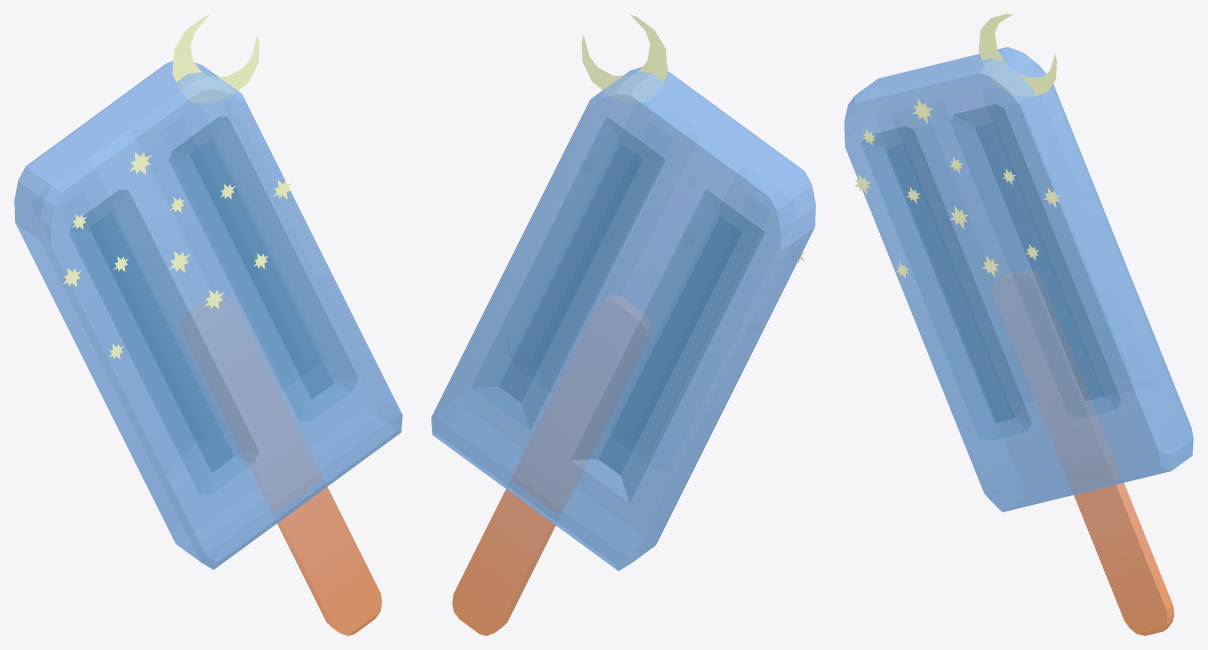
3 views of the same model, side by side, from view 1: azimuth 30°, elevation 25°; view 2: azimuth 150°, elevation 25°; view 3: azimuth 330°, elevation 25° (orthographic). The views are drawn at different scales.
Visible parts, largest first — view 1: Stick_1; view 2: Stick_1; view 3: Stick_1.
Part boxes in pixels (x1,y1,x2,y2): Stick_1: (14, 14, 402, 635); Stick_1: (431, 14, 815, 635); Stick_1: (844, 14, 1193, 635).
Size of the model in its own units: 4.67 by 8.08 by 0.8301.
Materials: 1 (1 with a texture image).
